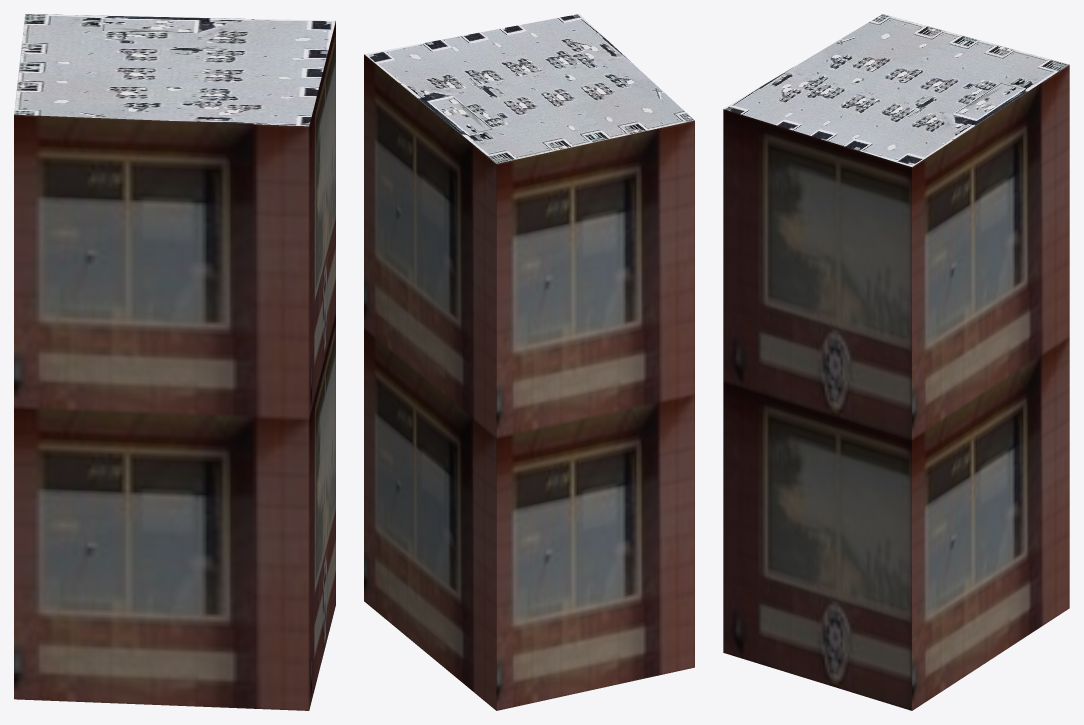
The model's file is ResTex__1128.fbx.
3 renders of one model, left to right at view 1: azimuth 30°, elevation 25°; view 2: azimuth 150°, elevation 25°; view 3: azimuth 270°, elevation 25°, orthographic. The views are drawn at different scales.
Visible parts, largest first — view 1: CityEngineMaterial_13_m, CityEngineMaterial_4_m; view 2: CityEngineMaterial_13_m, CityEngineMaterial_4_m; view 3: CityEngineMaterial_13_m, CityEngineMaterial_4_m.
Boxes of the visible parts, bbox=[...] form: CityEngineMaterial_13_m: bbox=[14, 21, 335, 710]; CityEngineMaterial_4_m: bbox=[14, 14, 335, 126]; CityEngineMaterial_13_m: bbox=[364, 54, 694, 710]; CityEngineMaterial_4_m: bbox=[364, 14, 694, 163]; CityEngineMaterial_13_m: bbox=[723, 65, 1069, 710]; CityEngineMaterial_4_m: bbox=[724, 14, 1069, 166].
Bounding box in the file's own units: 3.63 × 6 × 3.46.
2 materials, 2 textured.
